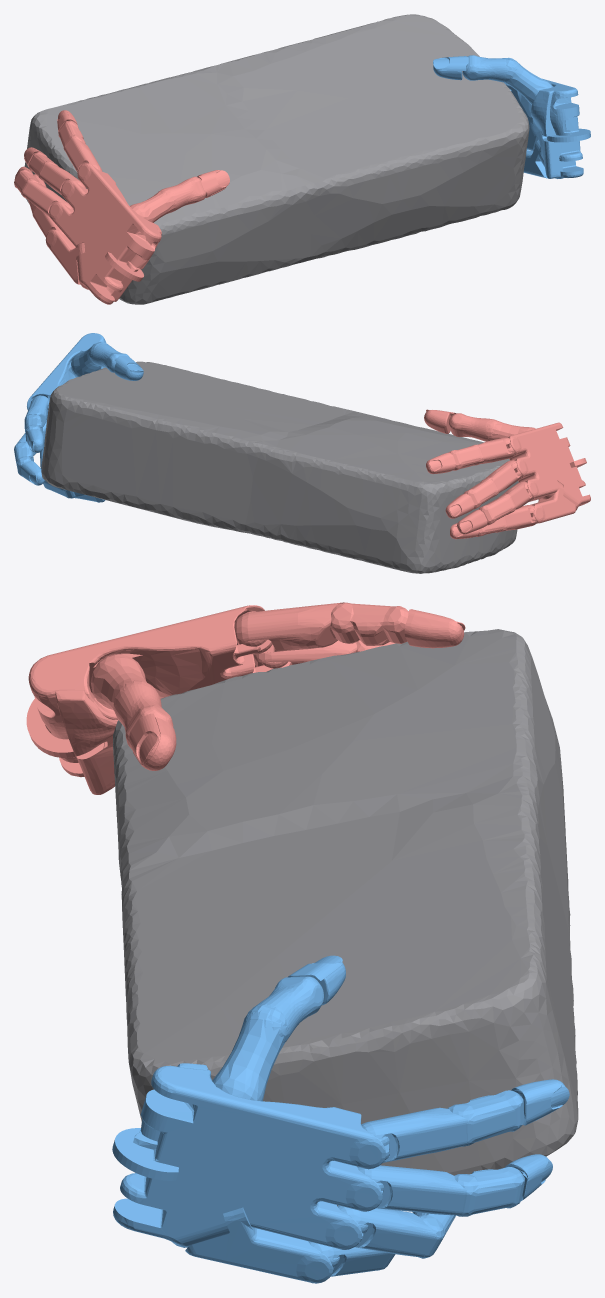
3 views of the same model, one above another, from view 1: azimuth 30°, elevation 25°; view 2: azimuth 150°, elevation 25°; view 3: azimuth 270°, elevation 25° (orthographic). The views are drawn at different scales.
Visible parts, largest first — view 1: object_mesh, left_shadow_hand, right_shadow_hand; view 2: object_mesh, left_shadow_hand, right_shadow_hand; view 3: object_mesh, right_shadow_hand, left_shadow_hand.
Part boxes in pixels (x1,y1,x2,y2): object_mesh: (24,14,529,304); left_shadow_hand: (14,110,229,304); right_shadow_hand: (433,55,590,178); object_mesh: (41,361,518,573); left_shadow_hand: (424,409,590,539); right_shadow_hand: (14,333,143,502); object_mesh: (113,629,578,1205); right_shadow_hand: (112,955,569,1283); left_shadow_hand: (26,602,465,794).
Bounding box in the file's own units: 0.5259 × 0.1469 × 0.2551.
